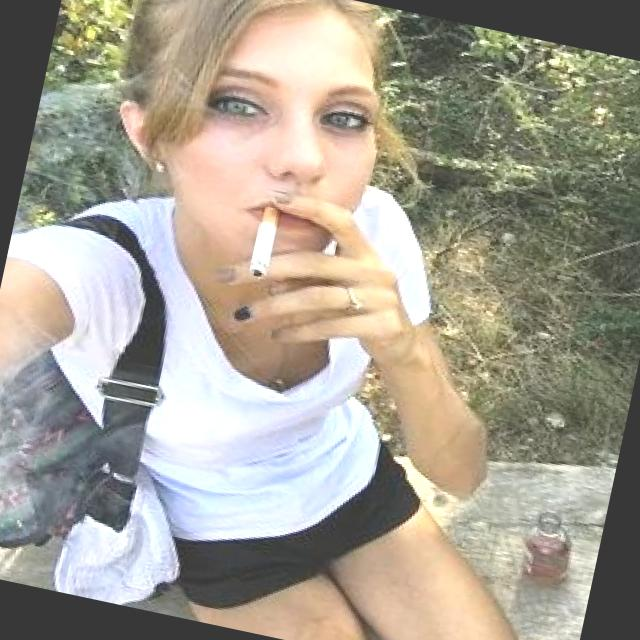cigarette: (240, 200, 290, 284)
